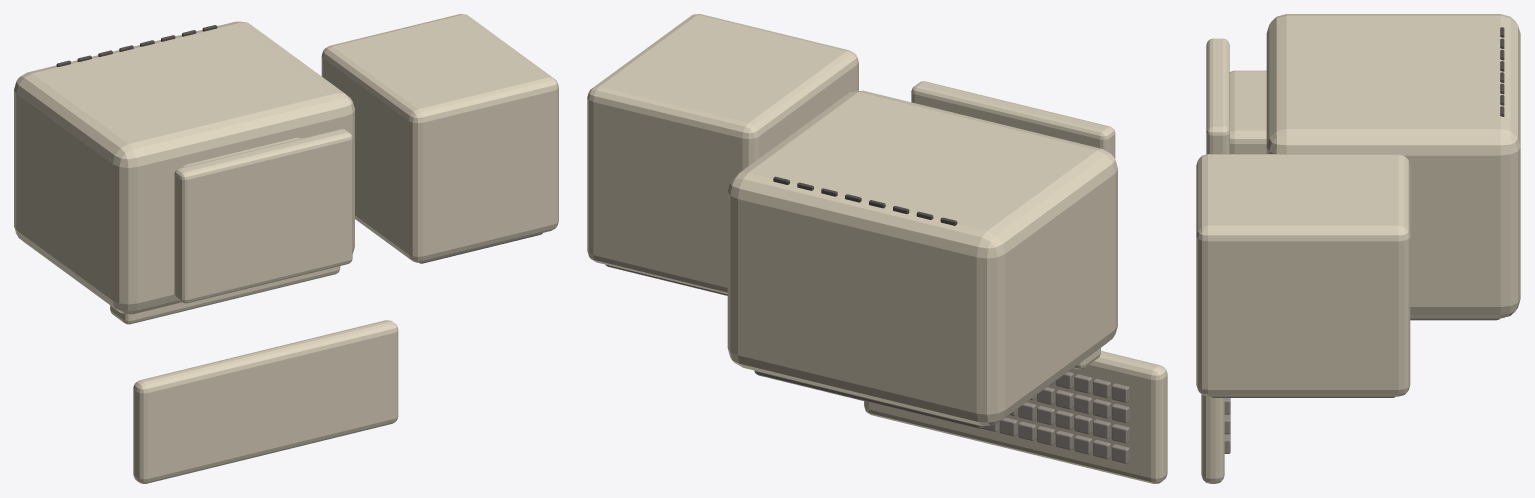
The model's file is vintage-crt.glb.
The picture shows the model from 3 angles, left to right: view 1: azimuth 30°, elevation 25°; view 2: azimuth 150°, elevation 25°; view 3: azimuth 270°, elevation 25°; orthographic projection. The views are drawn at different scales.
Visible parts, largest first — view 1: CRT_Body, Tower, Keyboard, CRT_Foot, CRT_Chin; view 2: CRT_Body, Tower, Keyboard, CRT_Foot, CRT_Face; view 3: CRT_Body, Tower, CRT_Stand, CRT_Foot, Keyboard, TowerFront.
Boxes of the visible parts, x1=… form: CRT_Body: x1=14, y1=21, x2=354, y2=314; Tower: x1=321, y1=14, x2=558, y2=262; Keyboard: x1=133, y1=320, x2=398, y2=483; CRT_Foot: x1=174, y1=129, x2=352, y2=303; CRT_Chin: x1=110, y1=266, x2=340, y2=324; CRT_Body: x1=727, y1=90, x2=1117, y2=425; Tower: x1=587, y1=14, x2=858, y2=294; Keyboard: x1=864, y1=351, x2=1167, y2=483; CRT_Foot: x1=911, y1=81, x2=1115, y2=158; CRT_Face: x1=754, y1=370, x2=984, y2=428; CRT_Body: x1=1266, y1=14, x2=1520, y2=318; Tower: x1=1196, y1=154, x2=1410, y2=396; CRT_Stand: x1=1229, y1=70, x2=1266, y2=153; CRT_Foot: x1=1206, y1=38, x2=1229, y2=154; Keyboard: x1=1201, y1=394, x2=1224, y2=483; TowerFront: x1=1211, y1=396, x2=1395, y2=397.
Bounding box in the file's own units: 3.22 × 2.29 × 1.94.
